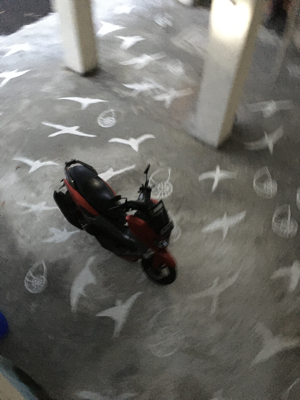moto: (52, 155, 179, 292)
